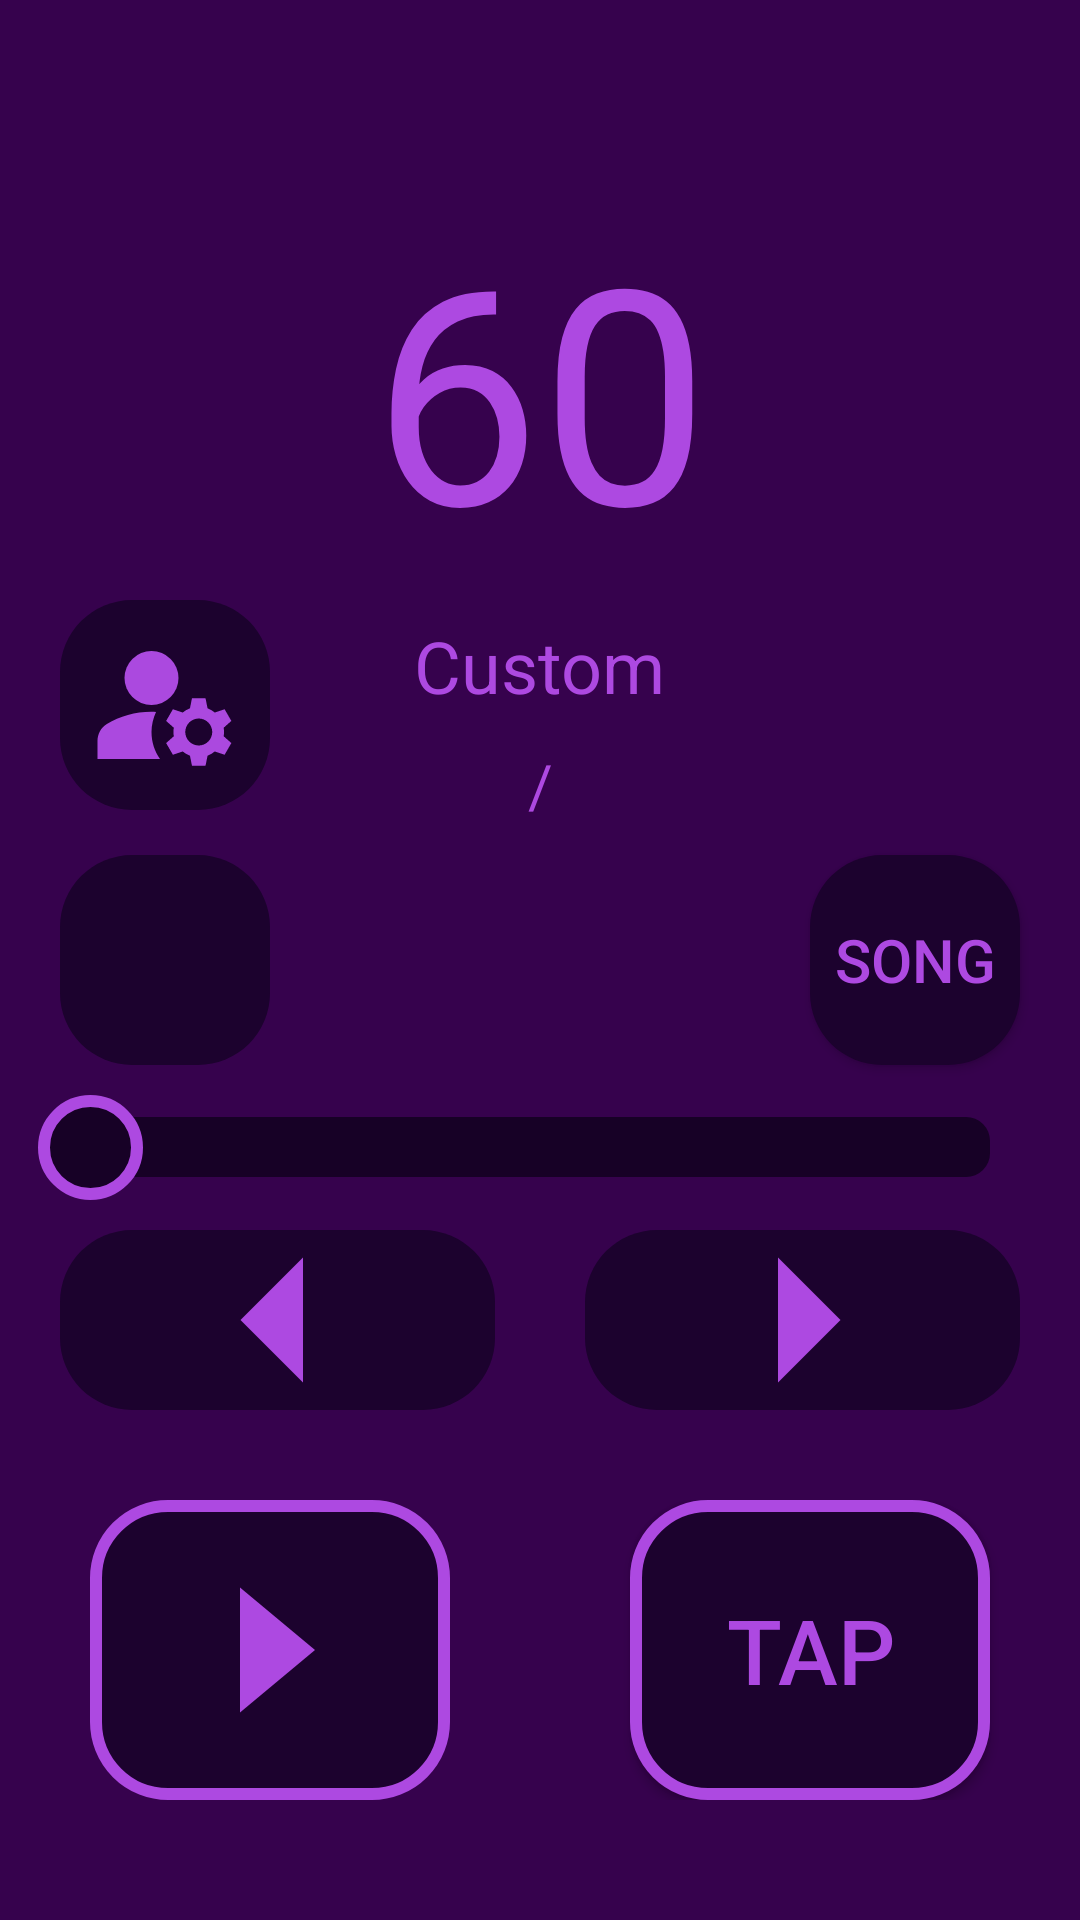

Where icons sit on this 1080px x 1920px app screen, as (x1, y1, x2, y2):
play/stop button: (90, 1500, 450, 1800)
User account management: (60, 600, 270, 810)
